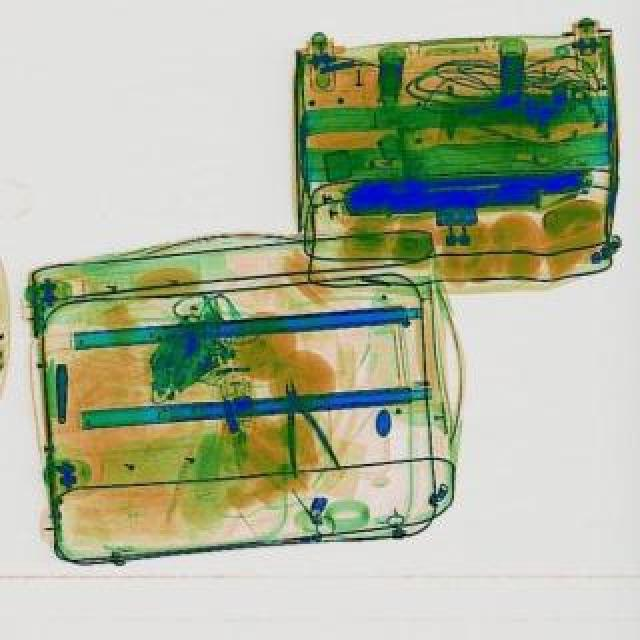wrench: (264, 376, 344, 484)
